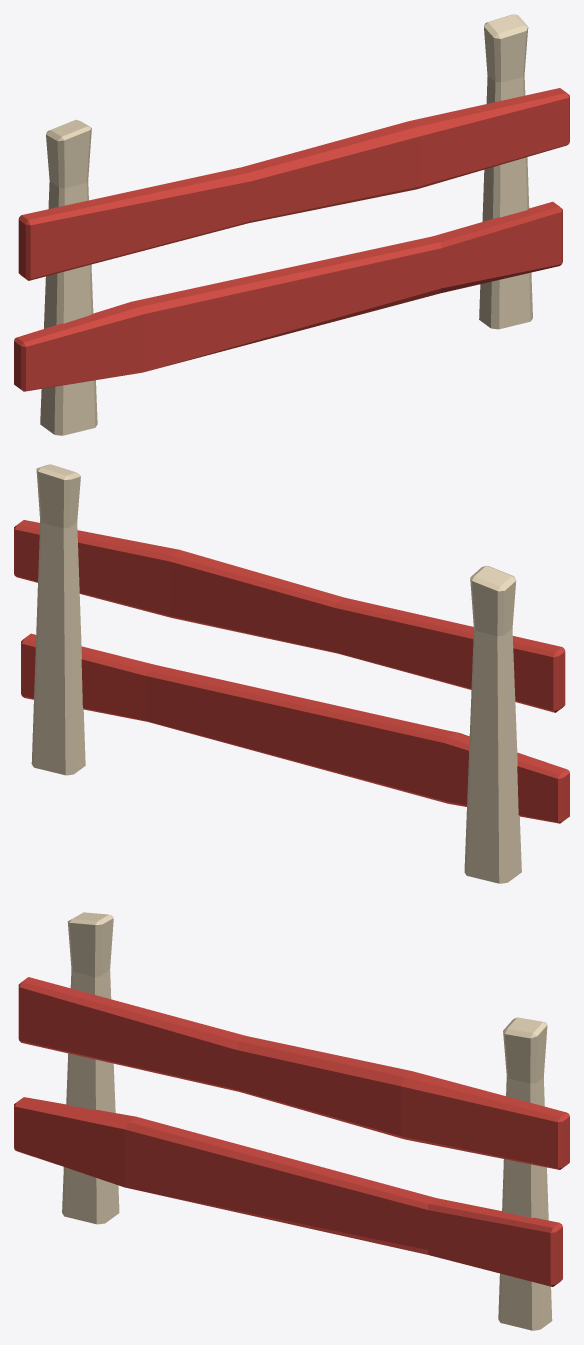
File: fence_h.gltf
3 renders of one model, top to bottom at view 1: azimuth 30°, elevation 25°; view 2: azimuth 150°, elevation 25°; view 3: azimuth 330°, elevation 25°, orthographic.
Parts seen in each view (by area): view 1: fence_h001; view 2: fence_h001; view 3: fence_h001.
Part boxes in pixels (x1=…): fence_h001: x1=14, y1=14, x2=569, y2=435; fence_h001: x1=14, y1=464, x2=569, y2=883; fence_h001: x1=14, y1=912, x2=569, y2=1330.
Size of the model in its own units: 0.9909 by 0.5195 by 0.097.
Materials: 1 (1 with a texture image).
